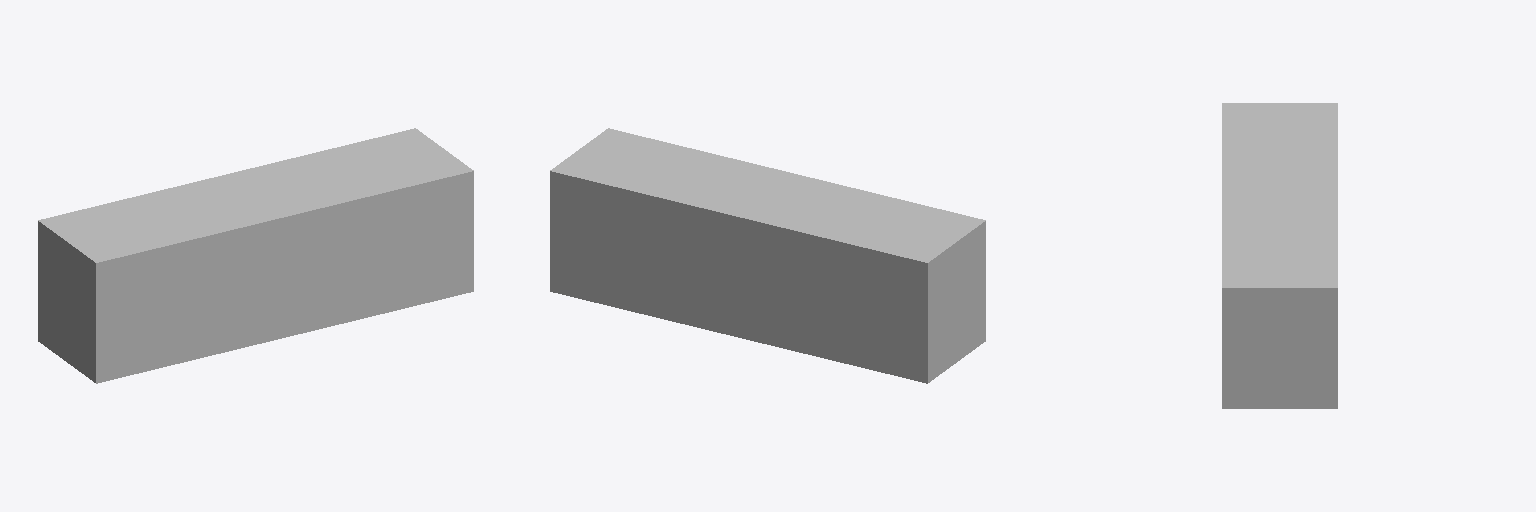
File: TutorialRoomHitboxData.obj
3 views of the same model, side by side, from view 1: azimuth 30°, elevation 25°; view 2: azimuth 150°, elevation 25°; view 3: azimuth 270°, elevation 25° (orthographic).
Visible parts, largest first — view 1: Big_Cube.068; view 2: Big_Cube.068; view 3: Big_Cube.068.
Part boxes in pixels (bbox=[...]): Big_Cube.068: bbox=[38, 128, 473, 383]; Big_Cube.068: bbox=[550, 128, 985, 383]; Big_Cube.068: bbox=[1222, 103, 1337, 408].
Bounding box in the file's own units: 227 × 69.13 × 60.74.